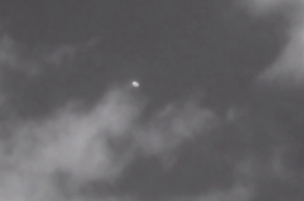Target: (133, 82, 139, 87)
